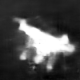plane: (13, 16, 76, 72)
